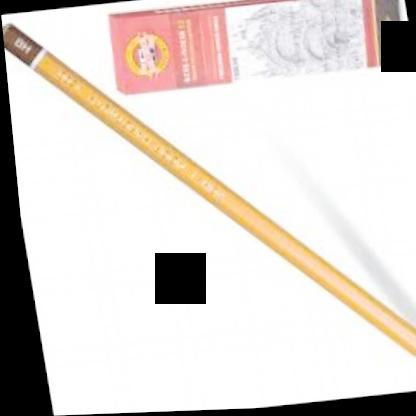pencil: (2, 16, 416, 368)
